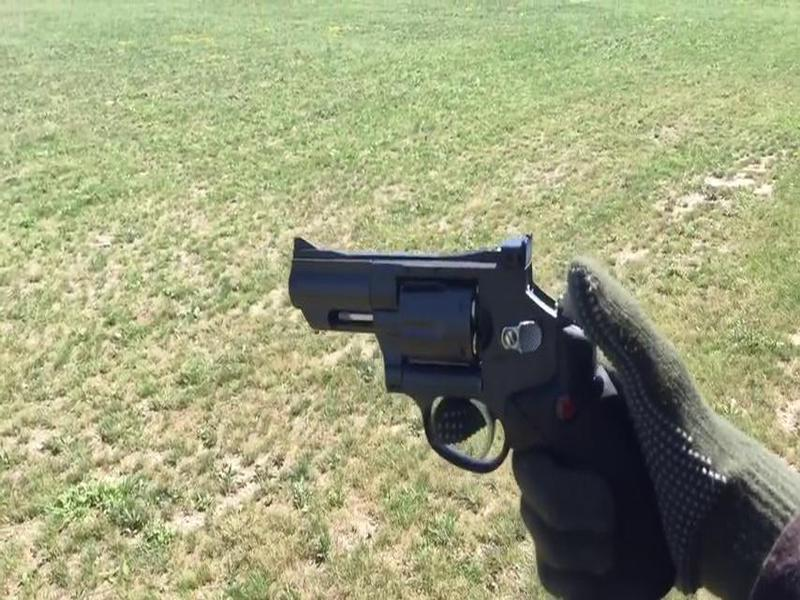Revolver: (279, 193, 637, 501)
